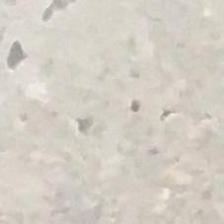Non_Crack: (72, 34, 128, 222)
